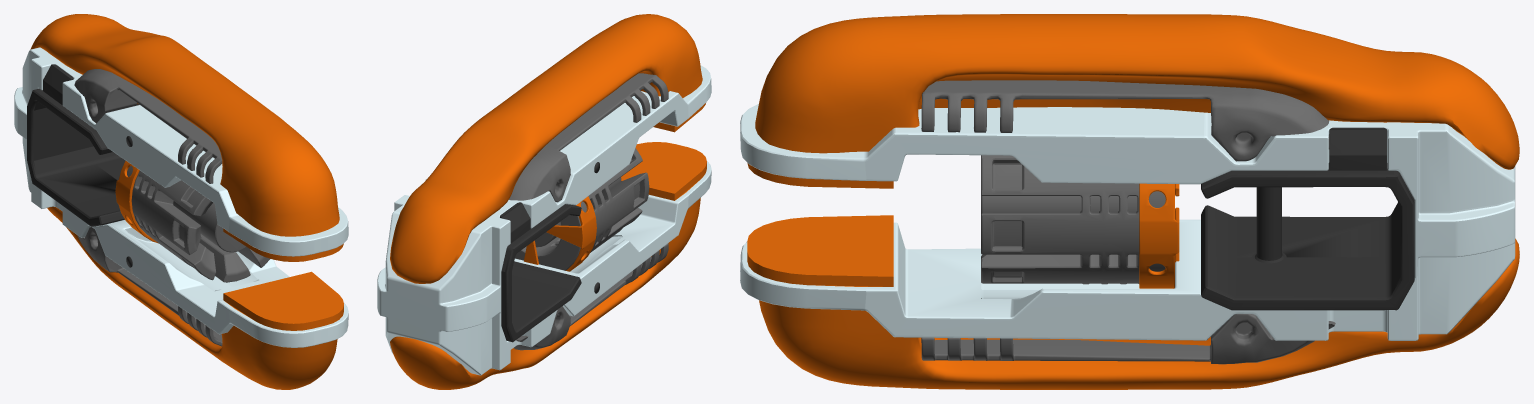
Rendered from plasma rifle_v4.glb.
The picture shows the model from 3 angles, left to right: view 1: azimuth 30°, elevation 25°; view 2: azimuth 150°, elevation 25°; view 3: azimuth 270°, elevation 25°; orthographic projection. The views are drawn at different scales.
Parts seen in each view (by area): view 1: Cylinder.001_Piece, Cylinder.001_Piece.002; view 2: Cylinder.001_Piece, Cylinder.001_Piece.002; view 3: Cylinder.001_Piece, Cylinder.001_Piece.002.
Boxes of the visible parts, x1,y1,x2,y2 form: Cylinder.001_Piece: [14, 14, 348, 389]; Cylinder.001_Piece.002: [115, 161, 270, 282]; Cylinder.001_Piece: [377, 14, 711, 389]; Cylinder.001_Piece.002: [515, 148, 649, 271]; Cylinder.001_Piece: [740, 14, 1519, 389]; Cylinder.001_Piece.002: [981, 155, 1179, 288].
Bounding box in the file's own units: 2.96 × 6.01 × 11.79.
